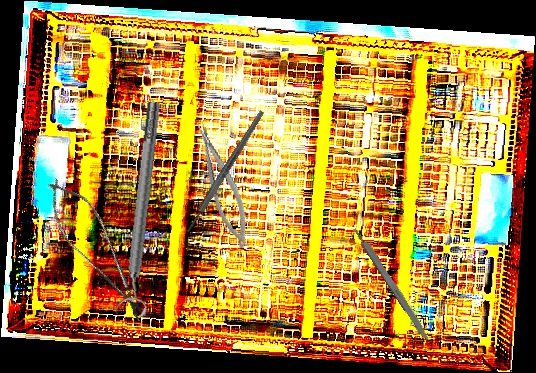Fixation Ring: (111, 100, 174, 318)
Micro Scissor: (34, 169, 161, 330)
Needle Holder: (190, 116, 256, 252)
Scalpel Handle: (183, 109, 267, 235), (351, 225, 434, 344)
